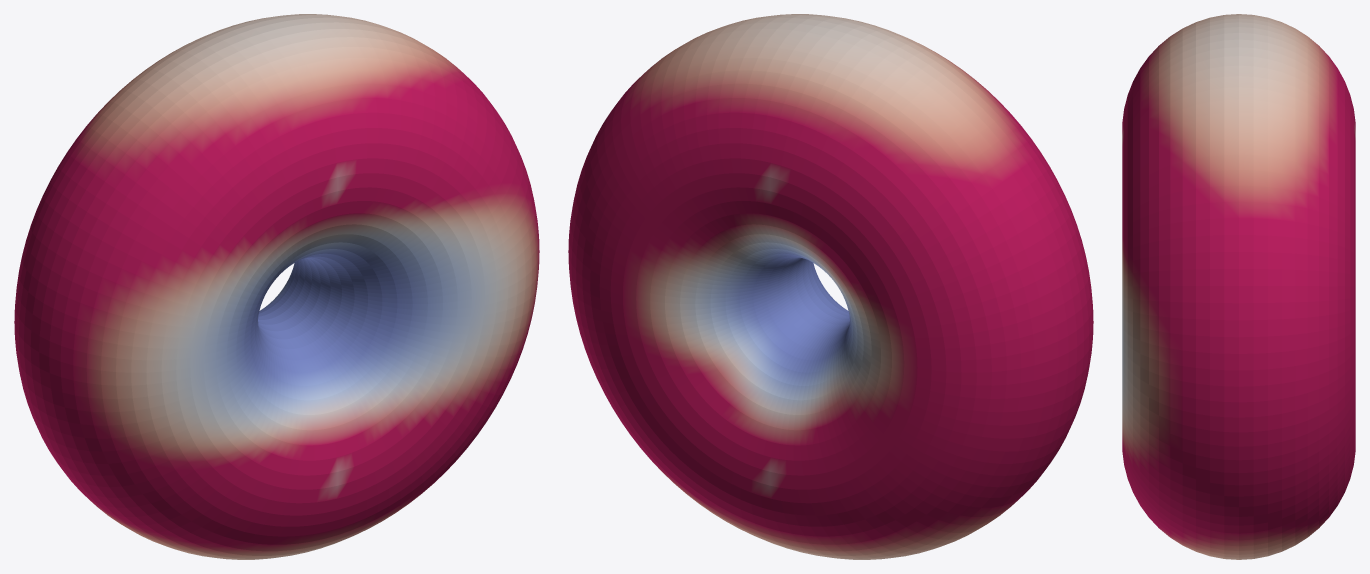
3 renders of one model, left to right at view 1: azimuth 30°, elevation 25°; view 2: azimuth 150°, elevation 25°; view 3: azimuth 270°, elevation 25°, orthographic. The views are drawn at different scales.
Parts seen in each view (by area): view 1: world; view 2: world; view 3: world.
Part boxes in pixels (x1,y1,x2,y2): world: (14, 14, 539, 559); world: (568, 14, 1093, 559); world: (1122, 14, 1355, 559).
Bounding box in the file's own units: 23.33 × 23.33 × 9.98.
